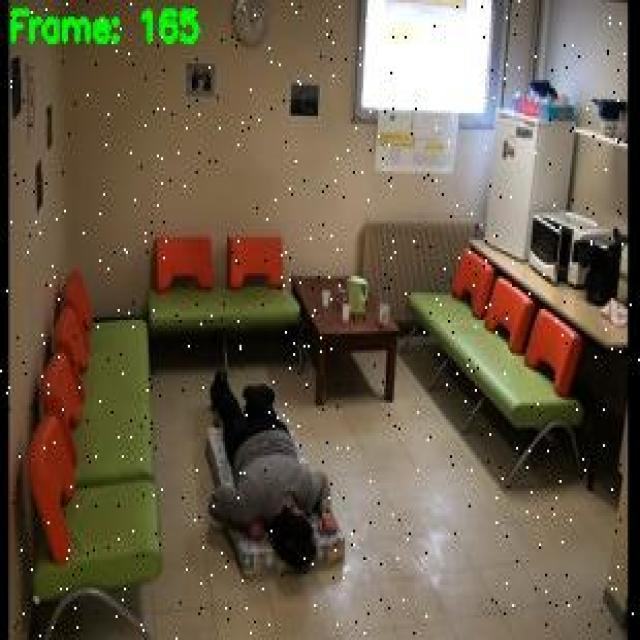fall: (200, 367, 336, 568)
